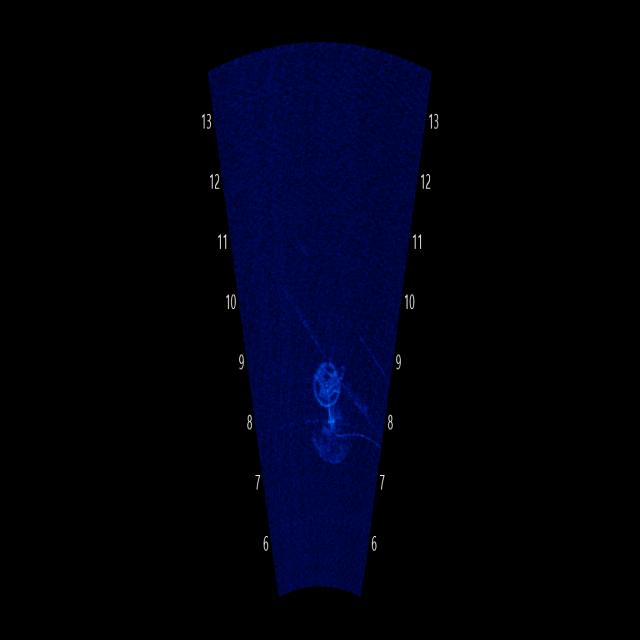circle: (298, 335, 356, 415)
